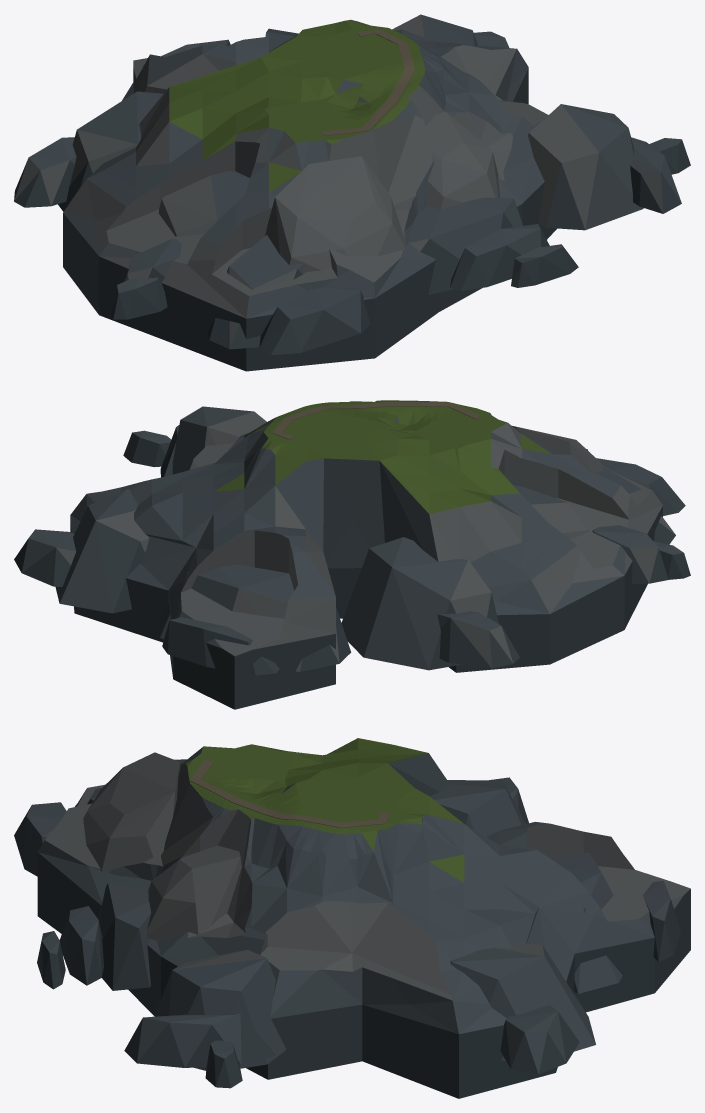
File: island_c.glb
3 views of the same model, one above another, from view 1: azimuth 30°, elevation 25°; view 2: azimuth 150°, elevation 25°; view 3: azimuth 270°, elevation 25° (orthographic). The views are drawn at different scales.
Visible parts, largest first — view 1: island_c_Coast short olive grass, island_c_Coast blue grey bedrock, island_c_Coast weathered stone footpath; view 2: island_c_Coast short olive grass, island_c_Coast blue grey bedrock, island_c_Coast weathered stone footpath; view 3: island_c_Coast short olive grass, island_c_Coast blue grey bedrock, island_c_Coast weathered stone footpath.
Part boxes in pixels (x1,y1,x2,y2): island_c_Coast short olive grass: [63, 19, 556, 371]; island_c_Coast blue grey bedrock: [14, 14, 690, 355]; island_c_Coast weathered stone footpath: [320, 29, 414, 135]; island_c_Coast short olive grass: [70, 400, 662, 709]; island_c_Coast blue grey bedrock: [14, 406, 690, 675]; island_c_Coast weathered stone footpath: [272, 402, 481, 439]; island_c_Coast short olive grass: [37, 738, 690, 1098]; island_c_Coast blue grey bedrock: [14, 777, 681, 1088]; island_c_Coast weathered stone footpath: [190, 760, 390, 827].
Bounding box in the file's own units: 64.61 × 17.59 × 60.
